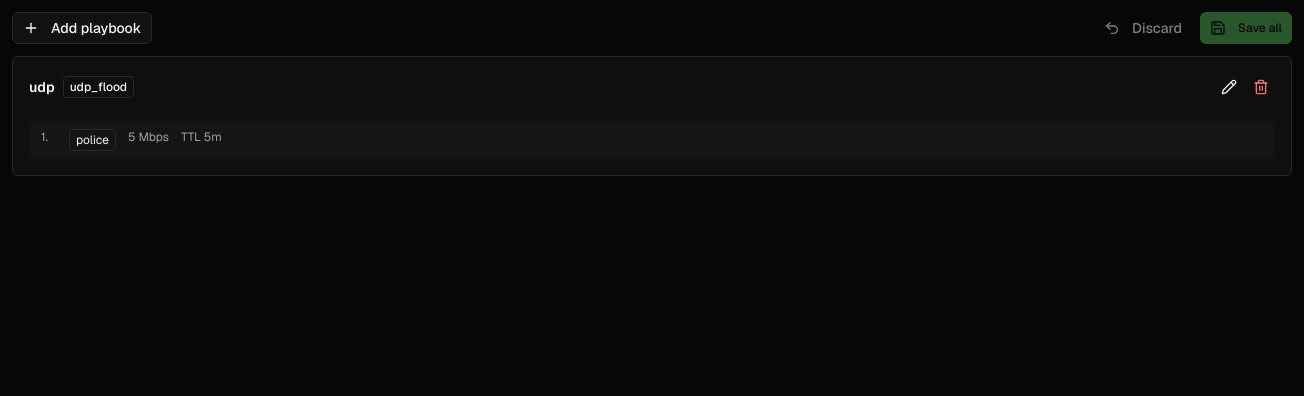
Test: operator configuration accessible names › announces playbook validation errors
Click the button named "Edit playbook udp" at (1229, 87), box [1215,73,1243,101]
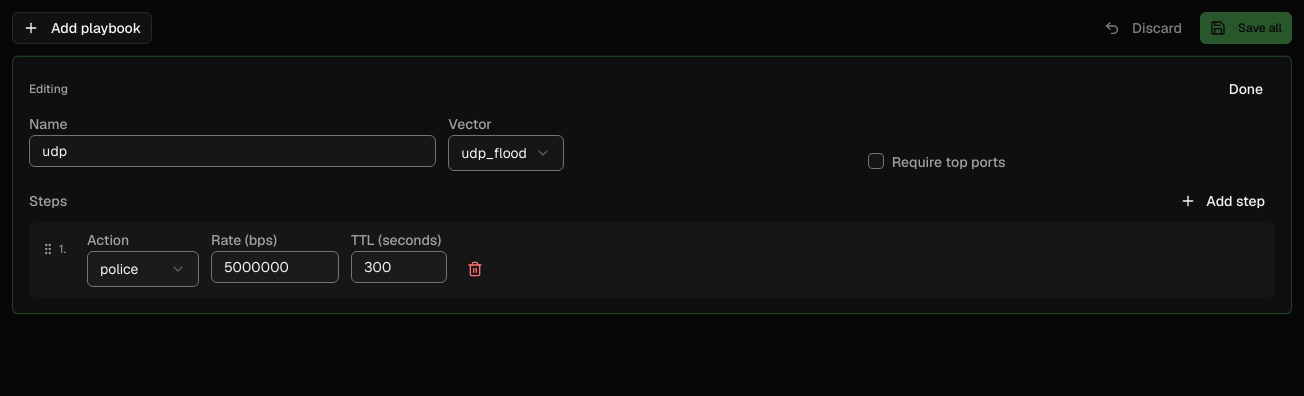
Clear the field labelled "Name" at (233, 151), box [29,135,436,167]
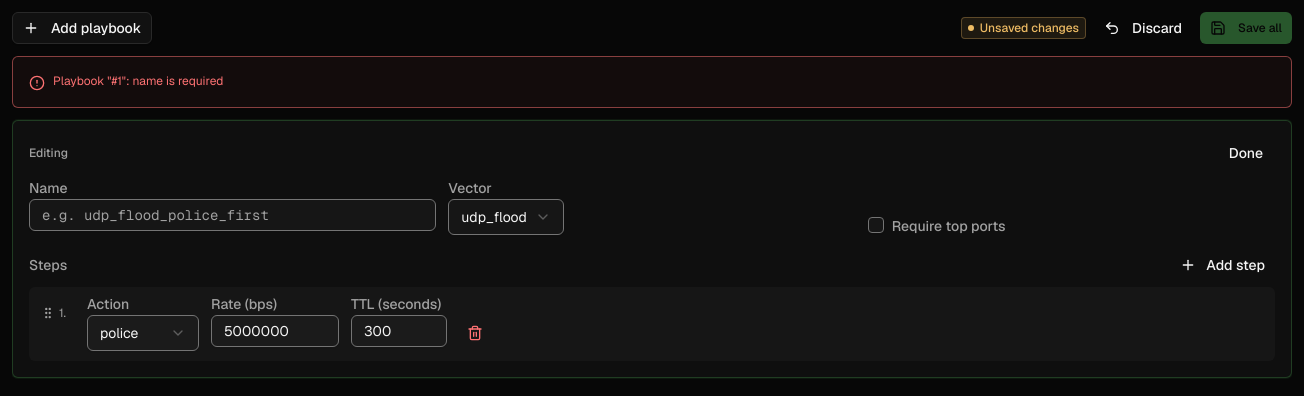
Check: the text "Playbook \"#1\": name is required" is shown, box [12,56,1292,108]
